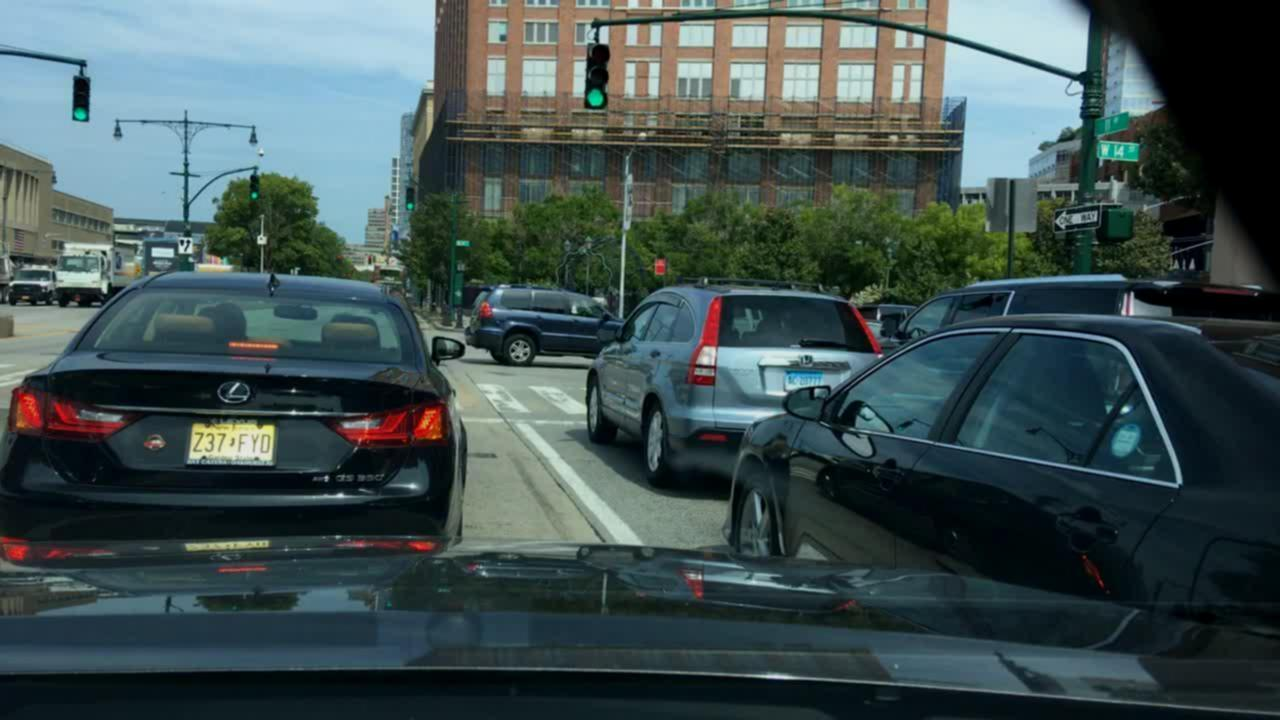Honda: (797, 352, 818, 369)
lexus: (213, 367, 259, 412)
